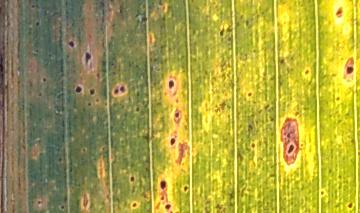tarspot: (80, 50, 93, 66), (343, 64, 356, 78), (286, 141, 297, 156), (302, 66, 314, 79), (165, 77, 176, 91), (173, 108, 182, 124), (166, 136, 179, 147), (344, 200, 357, 211), (180, 181, 190, 195), (66, 38, 77, 50), (158, 179, 169, 191), (72, 84, 85, 94), (111, 84, 120, 98), (247, 141, 259, 151), (34, 197, 44, 209), (119, 83, 127, 97), (127, 173, 137, 184), (57, 202, 68, 212), (216, 26, 226, 37), (318, 187, 326, 200), (87, 86, 97, 96), (32, 20, 43, 29), (244, 90, 255, 99), (130, 201, 140, 210), (164, 202, 172, 213), (86, 98, 93, 110), (40, 75, 48, 85), (133, 104, 141, 112)
